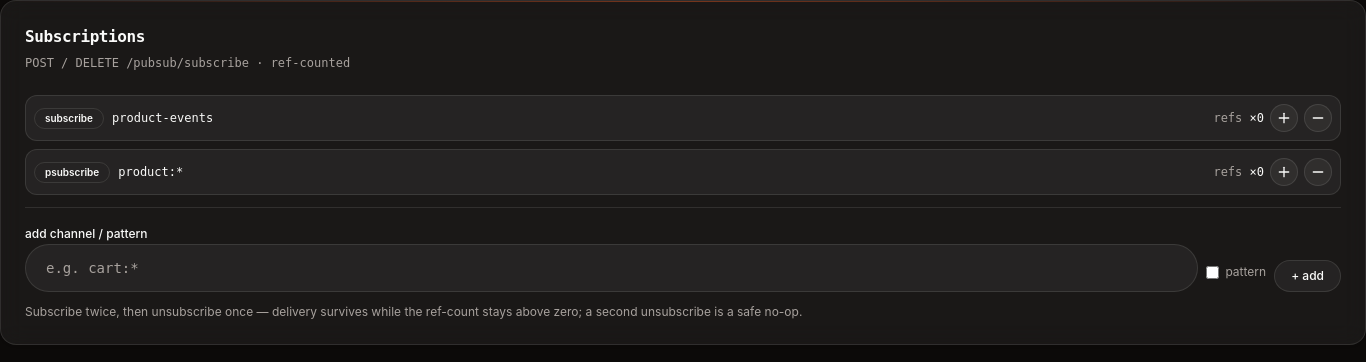
Test case: SubscriptionManager › updates the matching row ref-count on a successful subscribe
Click the button named "Subscribe to product-events" at (1284, 118), box [1270,104,1298,132]
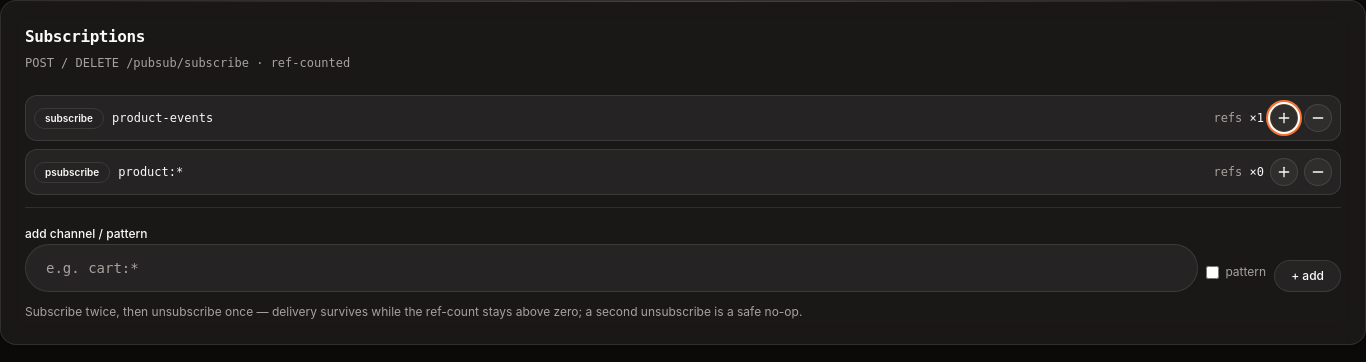
Check: the text "×1" is shown, box [1250,111,1264,125]
